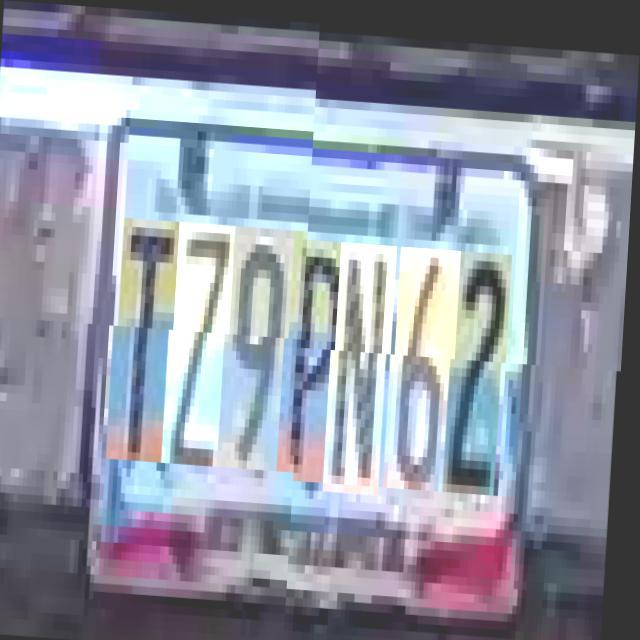2: (452, 243, 514, 488)
6: (392, 240, 463, 484)
9: (226, 230, 298, 474)
N: (332, 236, 400, 489)
P: (286, 234, 353, 478)
T: (116, 224, 182, 468)
Z: (170, 228, 238, 472)
